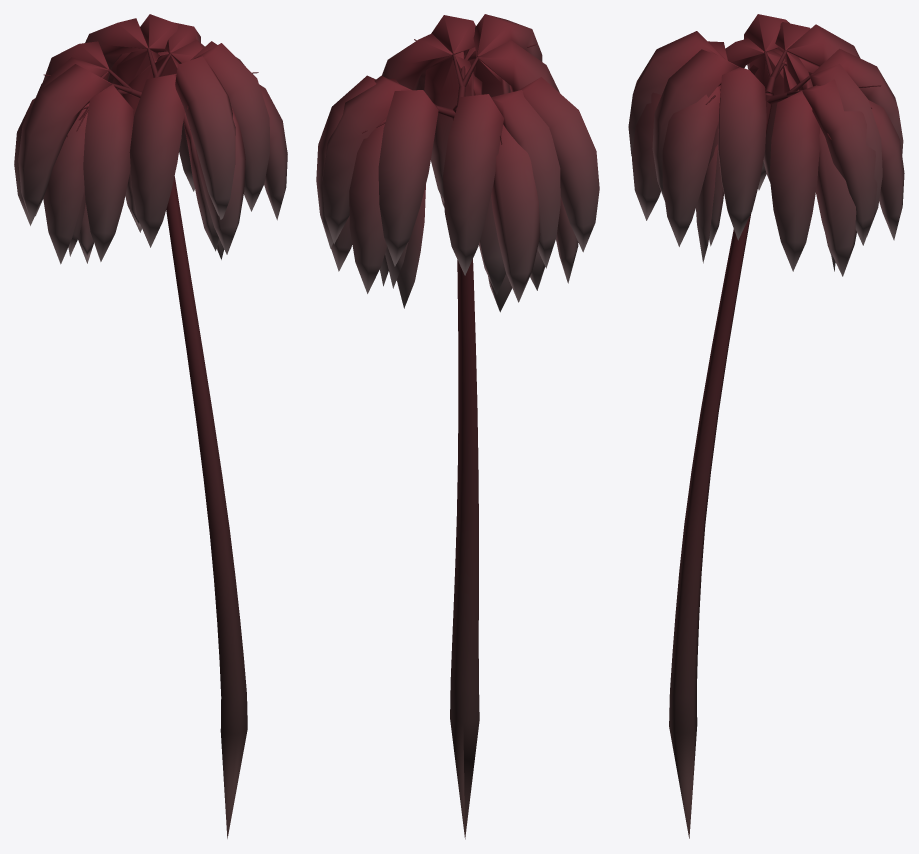
Rendered from plants-trees-palms-red-palm-tree_v2.glb.
The picture shows the model from 3 angles, left to right: view 1: azimuth 30°, elevation 25°; view 2: azimuth 150°, elevation 25°; view 3: azimuth 270°, elevation 25°; orthographic projection. The views are drawn at different scales.
Parts seen in each view (by area): view 1: Red Palm Tree_v2; view 2: Red Palm Tree_v2; view 3: Red Palm Tree_v2.
Part boxes in pixels (<box>): Red Palm Tree_v2: <box>14,14,287,838</box>; Red Palm Tree_v2: <box>316,14,599,839</box>; Red Palm Tree_v2: <box>628,14,904,838</box>.
Size of the model in its own units: 1.52 by 5 by 1.58.
